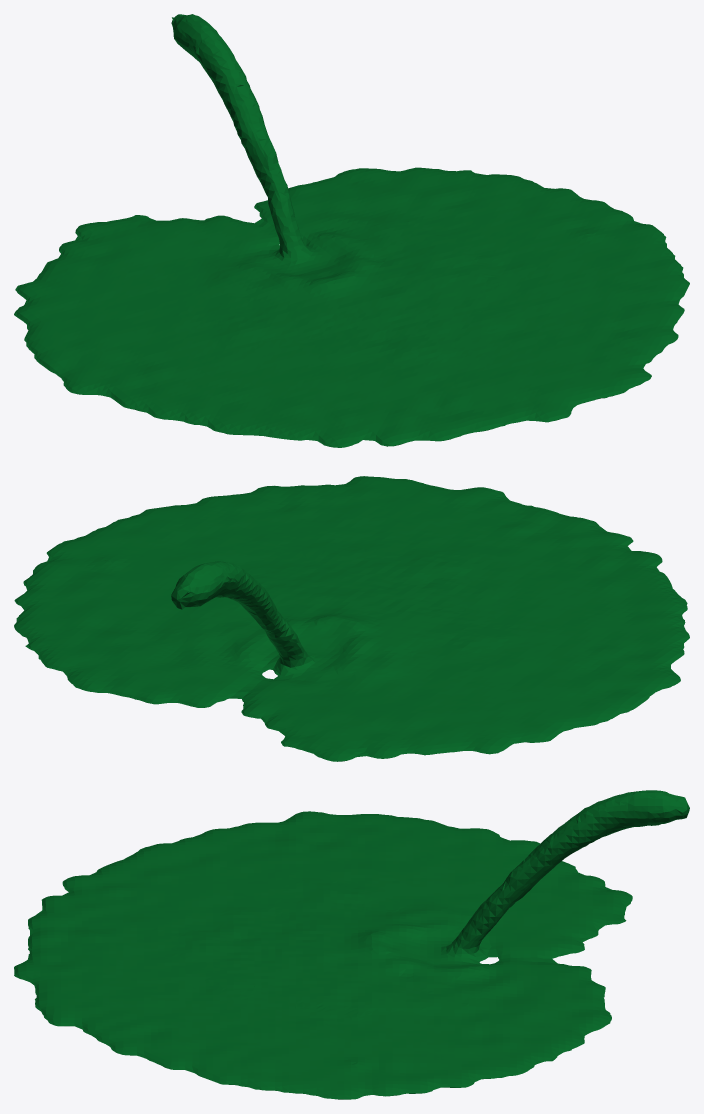
File: fluid_36.fbx
3 views of the same model, one above another, from view 1: azimuth 30°, elevation 25°; view 2: azimuth 150°, elevation 25°; view 3: azimuth 270°, elevation 25° (orthographic). The views are drawn at different scales.
Parts seen in each view (by area): view 1: Cube; view 2: Cube; view 3: Cube.
Boxes of the visible parts, bbox=[...] form: Cube: bbox=[14, 14, 689, 447]; Cube: bbox=[14, 476, 689, 761]; Cube: bbox=[14, 790, 689, 1099].
Bounding box in the file's own units: 647 × 176 × 642.
